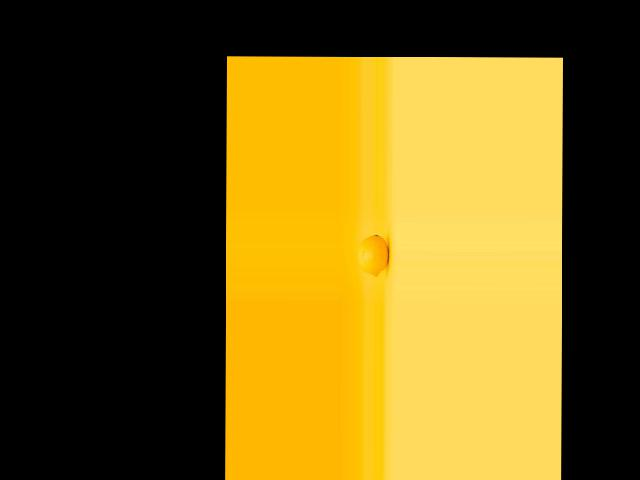lemon: (356, 230, 387, 283)
